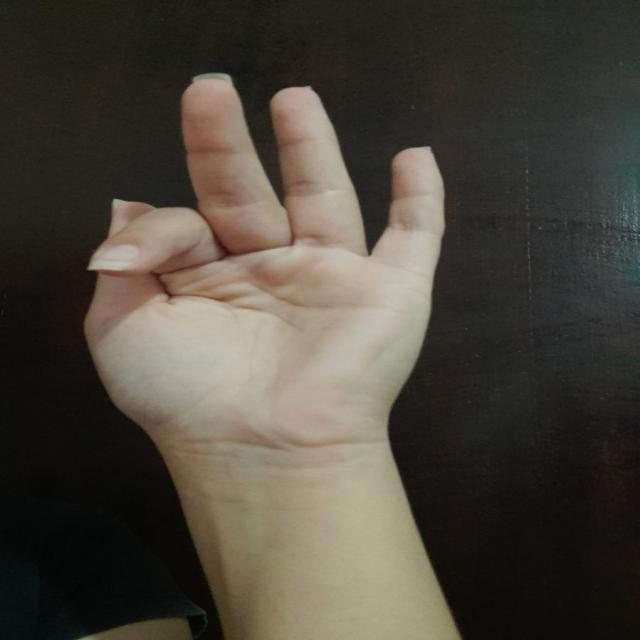F: (50, 64, 470, 442)
